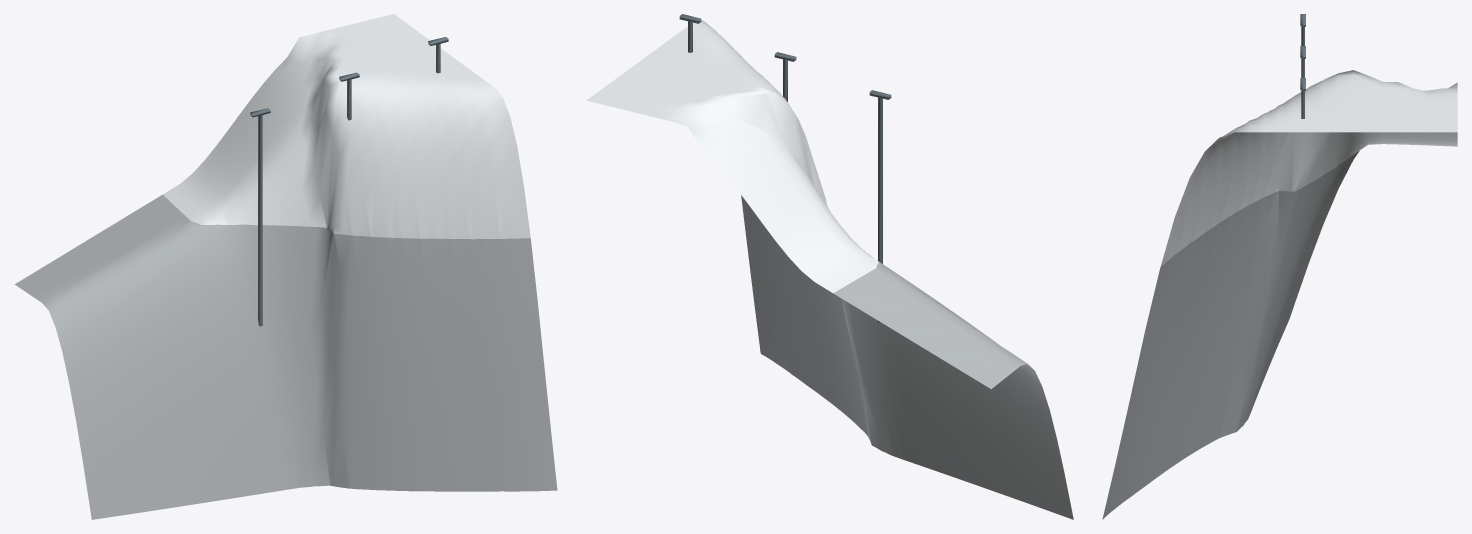
Rendered from alpine-12-12.glb.
3 views of the same model, side by side, from view 1: azimuth 30°, elevation 25°; view 2: azimuth 150°, elevation 25°; view 3: azimuth 270°, elevation 25° (orthographic). The views are drawn at different scales.
Visible parts, largest first — view 1: alpine-12-12; view 2: alpine-12-12; view 3: alpine-12-12.
Part boxes in pixels (bbox=[...]): alpine-12-12: bbox=[15, 14, 557, 519]; alpine-12-12: bbox=[586, 14, 1073, 519]; alpine-12-12: bbox=[1102, 14, 1457, 519].
Bounding box in the file's own units: 256 × 251 × 191.
Materials: 3 (3 with a texture image).
